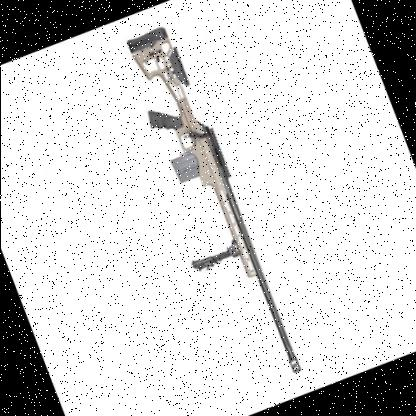rifle: (102, 13, 310, 398)
